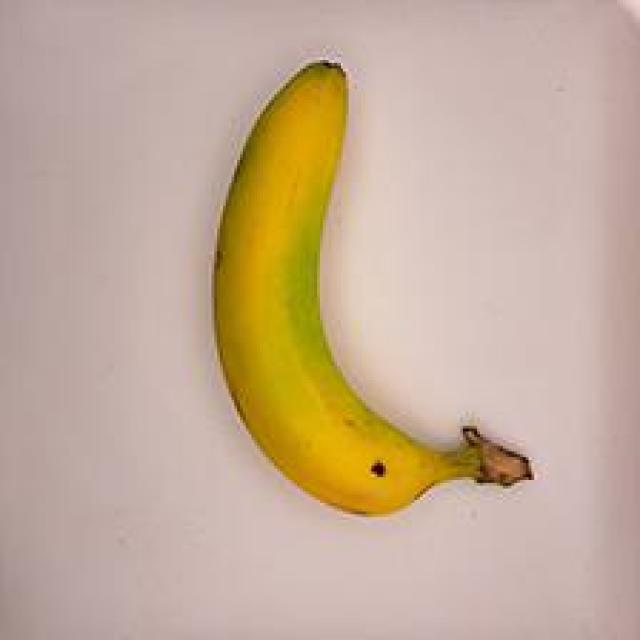unripe: (180, 47, 543, 534)
